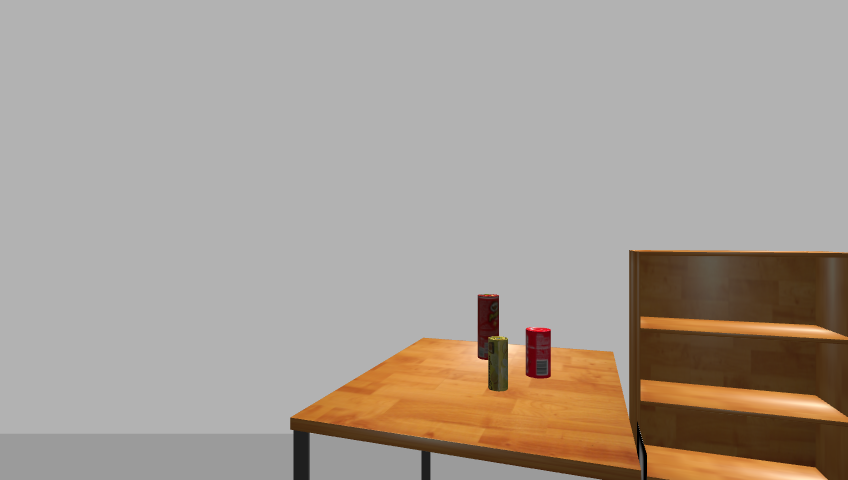aruco marker: (630, 421, 649, 480)
biscuits pack: (487, 338, 510, 392)
bookshelf: (623, 249, 848, 479)
coke can: (524, 327, 553, 379)
dinner table: (284, 336, 649, 480)
pringles can: (475, 293, 501, 362)
